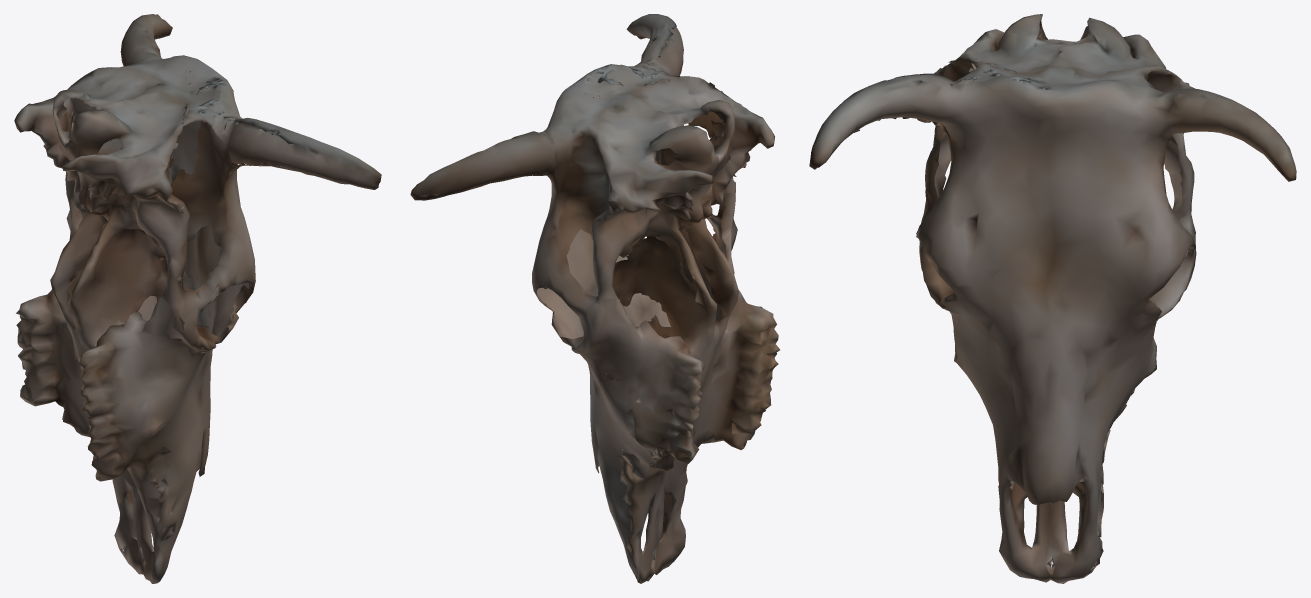
The model's file is CowSkull.fbx.
3 views of the same model, side by side, from view 1: azimuth 30°, elevation 25°; view 2: azimuth 150°, elevation 25°; view 3: azimuth 270°, elevation 25° (orthographic). The views are drawn at different scales.
Visible parts, largest first — view 1: CowSkull.001_Baked; view 2: CowSkull.001_Baked; view 3: CowSkull.001_Baked.
Boxes of the visible parts, x1=… form: CowSkull.001_Baked: x1=14, y1=14, x2=381, y2=583; CowSkull.001_Baked: x1=410, y1=14, x2=779, y2=583; CowSkull.001_Baked: x1=809, y1=14, x2=1296, y2=583.
Bounding box in the file's own units: 50.75 × 99.97 × 81.86.
